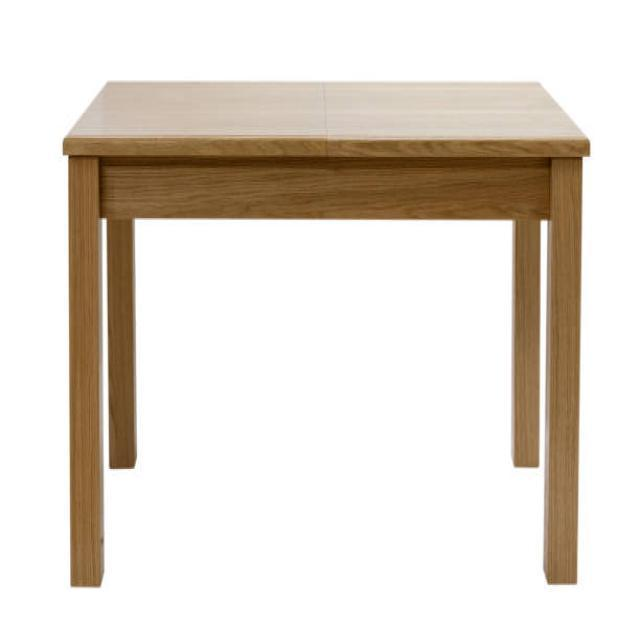table: (62, 79, 590, 588)
